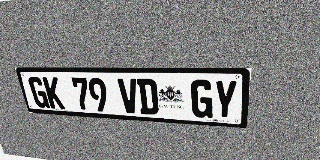7: (70, 77, 93, 111)
9: (87, 78, 110, 112)
D: (136, 78, 159, 115)
G: (191, 79, 213, 118), (27, 77, 50, 108)
K: (42, 77, 65, 109)
V: (117, 78, 140, 114)
Y: (213, 80, 238, 120)
